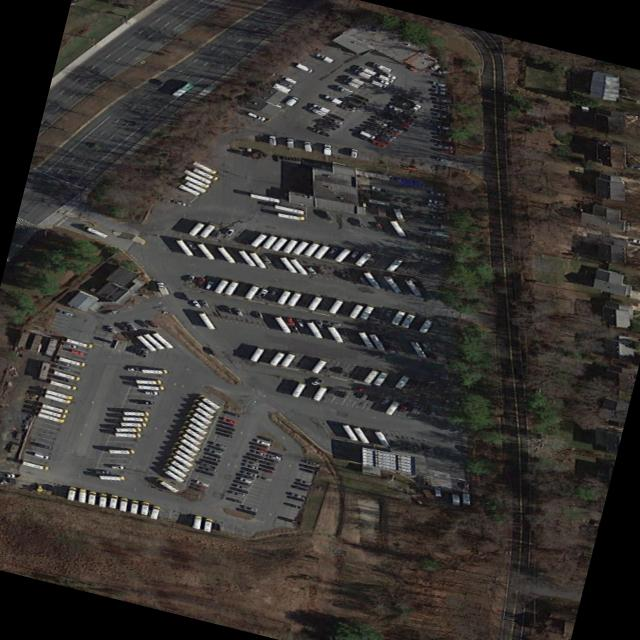large-vehicle: (177, 178, 207, 193), (182, 170, 211, 184), (182, 414, 208, 429), (181, 420, 207, 435), (175, 430, 201, 445), (174, 436, 200, 451), (167, 452, 193, 467), (172, 182, 199, 196), (195, 394, 220, 409), (153, 478, 178, 493), (190, 399, 216, 413), (185, 410, 211, 424), (168, 447, 194, 461), (191, 168, 219, 181), (80, 225, 108, 238), (172, 441, 196, 456), (165, 457, 189, 472), (169, 83, 193, 98), (142, 333, 164, 349), (190, 161, 217, 174), (188, 404, 213, 418), (179, 425, 204, 439), (161, 463, 186, 477), (158, 468, 183, 482), (194, 243, 214, 260), (384, 256, 404, 273), (183, 176, 209, 189), (135, 335, 156, 351), (151, 333, 173, 348), (304, 321, 322, 339), (272, 316, 291, 333), (196, 312, 215, 329), (215, 247, 235, 263), (381, 276, 401, 292), (57, 356, 85, 367), (52, 370, 80, 381), (44, 389, 72, 400), (367, 334, 385, 351), (340, 424, 358, 441), (278, 257, 297, 273), (402, 280, 421, 296), (362, 272, 381, 288), (236, 251, 256, 266), (249, 193, 279, 203), (36, 412, 63, 423), (65, 338, 92, 349), (48, 380, 75, 391), (41, 403, 68, 414), (38, 408, 65, 419), (311, 244, 329, 260), (356, 332, 374, 348), (309, 358, 327, 374), (351, 427, 369, 443), (372, 431, 390, 447), (288, 259, 307, 274), (360, 369, 379, 384), (408, 341, 425, 357), (325, 326, 342, 342), (305, 295, 322, 311), (212, 278, 229, 294), (248, 253, 266, 268), (175, 240, 193, 255), (290, 240, 308, 255), (301, 242, 319, 257), (273, 205, 303, 214), (388, 221, 406, 236), (267, 351, 285, 366), (43, 394, 70, 404), (371, 371, 389, 386), (248, 233, 267, 247), (186, 222, 205, 236), (389, 309, 405, 325), (311, 385, 327, 401), (290, 382, 306, 398), (275, 289, 291, 305), (260, 235, 277, 250), (347, 304, 364, 319), (326, 299, 343, 314), (285, 291, 302, 306), (222, 280, 239, 295), (383, 400, 400, 415), (353, 252, 371, 266), (399, 313, 415, 328), (279, 352, 295, 367), (248, 347, 264, 362), (281, 239, 298, 253), (270, 237, 287, 251), (198, 224, 215, 238), (416, 319, 433, 333), (333, 248, 350, 262), (242, 285, 259, 299), (393, 375, 410, 389), (21, 461, 47, 470), (276, 213, 305, 221), (359, 305, 373, 319), (392, 209, 405, 222), (120, 416, 148, 422), (136, 384, 164, 390), (65, 486, 76, 501), (98, 475, 125, 481), (191, 515, 202, 529), (107, 494, 117, 509), (86, 490, 96, 505), (76, 488, 86, 503), (113, 427, 142, 432), (121, 411, 150, 416), (133, 379, 162, 384), (149, 505, 159, 519), (139, 501, 149, 515), (113, 433, 141, 438), (118, 422, 146, 427), (140, 369, 168, 374), (107, 449, 134, 454), (202, 517, 211, 532), (118, 497, 127, 512), (97, 492, 106, 507), (367, 199, 389, 205), (129, 499, 137, 514), (451, 494, 459, 506), (461, 493, 469, 505), (433, 486, 440, 497)
small-vehicle: (370, 62, 392, 73), (375, 69, 397, 80), (355, 65, 377, 76), (350, 68, 372, 79), (313, 52, 334, 63), (344, 75, 365, 86), (153, 282, 170, 295), (243, 111, 265, 121), (270, 82, 291, 92), (293, 63, 313, 73), (341, 79, 361, 89), (322, 94, 342, 104), (306, 106, 326, 116), (282, 95, 300, 106), (278, 75, 297, 85), (356, 130, 375, 140), (334, 85, 353, 95), (370, 75, 389, 85), (310, 103, 329, 113), (344, 97, 365, 106), (323, 116, 343, 125), (434, 156, 454, 165), (378, 131, 398, 140), (370, 185, 390, 194), (323, 319, 341, 329), (425, 202, 447, 210), (349, 93, 368, 102), (375, 74, 394, 83), (298, 466, 317, 475), (361, 124, 380, 133), (298, 463, 319, 471), (400, 116, 421, 124), (51, 374, 69, 383), (33, 442, 51, 451), (232, 479, 250, 488), (239, 469, 257, 478), (240, 465, 258, 474), (395, 96, 413, 105), (242, 455, 262, 463), (293, 481, 313, 489), (234, 473, 254, 481), (427, 198, 447, 206), (341, 102, 358, 111), (308, 377, 325, 386), (344, 100, 363, 108), (322, 120, 341, 128), (367, 80, 386, 88), (238, 508, 257, 516), (292, 485, 311, 493), (253, 439, 272, 447), (244, 452, 263, 460), (240, 459, 259, 467), (617, 95, 636, 103), (302, 460, 321, 468), (229, 486, 248, 494), (230, 483, 249, 491), (369, 119, 388, 127), (377, 114, 396, 122), (382, 129, 401, 137), (389, 102, 408, 110), (326, 113, 344, 121), (300, 141, 312, 153), (199, 462, 217, 470), (240, 504, 258, 512), (53, 359, 71, 367), (249, 445, 267, 453), (228, 490, 246, 498), (240, 462, 258, 470), (365, 121, 383, 129), (386, 105, 404, 113), (393, 100, 411, 108), (321, 143, 332, 156), (201, 280, 214, 291), (255, 287, 269, 297), (275, 80, 292, 88), (369, 140, 386, 148), (291, 493, 308, 501), (199, 466, 216, 474), (219, 416, 236, 424), (289, 495, 306, 503), (296, 478, 313, 486), (256, 435, 273, 443), (266, 450, 283, 458), (236, 476, 253, 484), (386, 126, 403, 134), (302, 265, 317, 274), (215, 424, 234, 431), (248, 449, 267, 456), (407, 103, 420, 113), (192, 276, 205, 286), (315, 125, 331, 133), (339, 105, 355, 113), (355, 134, 371, 142), (377, 135, 393, 143), (383, 108, 399, 116), (361, 128, 377, 136), (401, 111, 417, 119), (390, 124, 406, 132), (394, 121, 410, 129), (382, 112, 398, 120), (285, 502, 303, 509), (53, 365, 71, 372), (436, 140, 454, 147), (373, 117, 391, 124), (433, 109, 451, 116), (433, 101, 451, 108), (134, 319, 148, 328), (102, 309, 120, 316), (183, 274, 194, 285), (320, 123, 335, 131), (145, 320, 160, 328), (376, 397, 391, 405), (209, 229, 221, 239), (374, 138, 391, 145), (211, 442, 228, 449), (197, 470, 214, 477), (194, 480, 211, 487), (190, 483, 207, 490), (187, 486, 204, 493), (60, 342, 77, 349), (265, 454, 282, 461), (262, 457, 279, 464), (261, 460, 278, 467), (257, 467, 274, 474), (434, 135, 451, 142), (293, 318, 306, 327), (222, 228, 235, 237), (435, 129, 454, 135), (434, 148, 453, 154), (208, 445, 224, 452), (207, 449, 223, 456), (282, 517, 298, 524), (69, 349, 85, 356), (32, 452, 48, 459), (258, 464, 274, 471), (398, 119, 414, 126), (435, 97, 451, 104), (434, 89, 450, 96), (171, 200, 187, 207), (259, 256, 273, 264), (266, 135, 276, 146), (268, 287, 279, 297), (409, 404, 420, 414), (318, 211, 330, 220), (430, 73, 448, 79), (232, 308, 244, 317), (198, 300, 210, 309), (312, 320, 324, 329), (313, 129, 328, 136), (218, 420, 233, 427), (224, 411, 239, 418), (257, 475, 272, 482), (57, 310, 72, 317), (435, 116, 450, 123), (428, 63, 441, 71), (105, 325, 118, 333), (185, 241, 198, 249), (0, 472, 17, 478), (352, 387, 369, 393), (433, 105, 450, 111), (433, 93, 450, 99), (397, 404, 408, 413), (253, 311, 264, 320), (206, 452, 220, 459), (225, 497, 241, 503), (358, 392, 370, 400), (436, 121, 452, 127), (437, 144, 453, 150), (431, 81, 447, 87), (428, 191, 444, 197), (218, 431, 231, 438), (123, 322, 136, 329), (349, 148, 358, 158), (284, 138, 293, 148), (139, 349, 149, 358), (252, 443, 267, 449), (625, 113, 640, 119), (433, 85, 448, 91), (362, 189, 377, 195), (190, 300, 201, 308), (108, 465, 125, 470), (205, 456, 219, 462), (204, 460, 218, 466), (217, 428, 231, 434), (437, 133, 451, 139), (348, 250, 358, 258), (434, 114, 450, 119), (436, 126, 452, 131), (436, 69, 452, 74), (382, 309, 392, 317), (351, 219, 362, 226), (357, 277, 368, 284), (431, 215, 446, 220), (135, 400, 153, 404), (124, 367, 142, 371), (421, 475, 428, 485), (94, 470, 110, 474), (142, 390, 158, 394), (285, 317, 294, 324), (372, 223, 382, 229), (462, 482, 469, 490), (629, 165, 640, 170), (629, 242, 640, 247)
